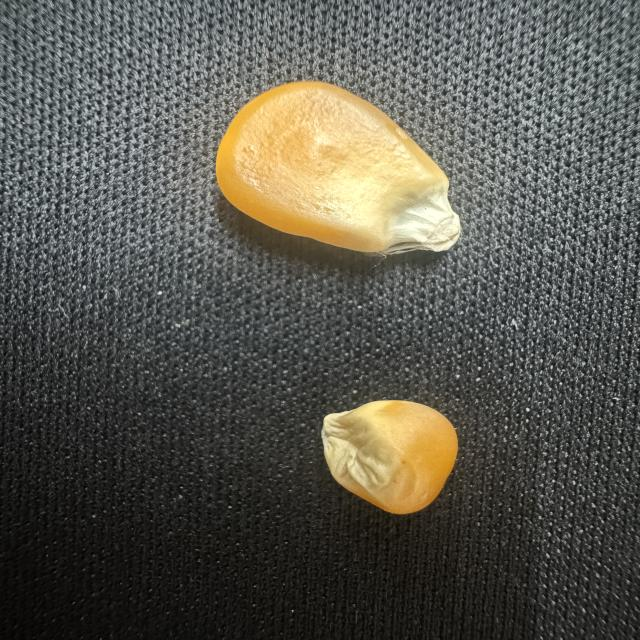Bad-Seed: (316, 396, 462, 520)
Good-Seed: (210, 74, 466, 262)
